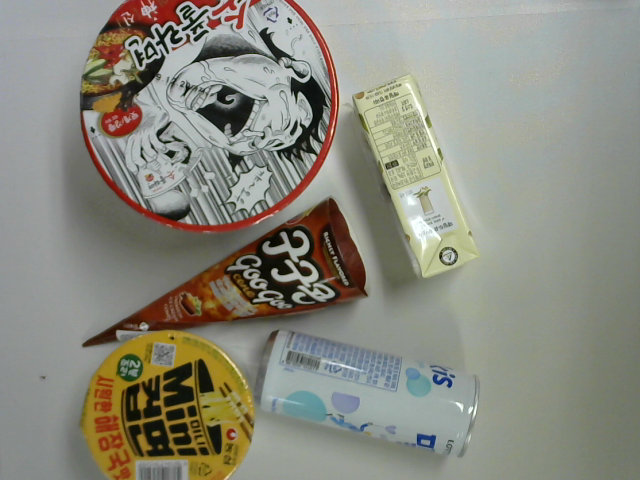99.89_Soymilk: (348, 72, 484, 277)
GooGoo_Cone_CVS: (79, 197, 372, 350)
Hejangmini: (79, 330, 260, 480)
Hejangpul: (80, 1, 342, 235)
Milkies_250ml: (253, 328, 482, 459)
